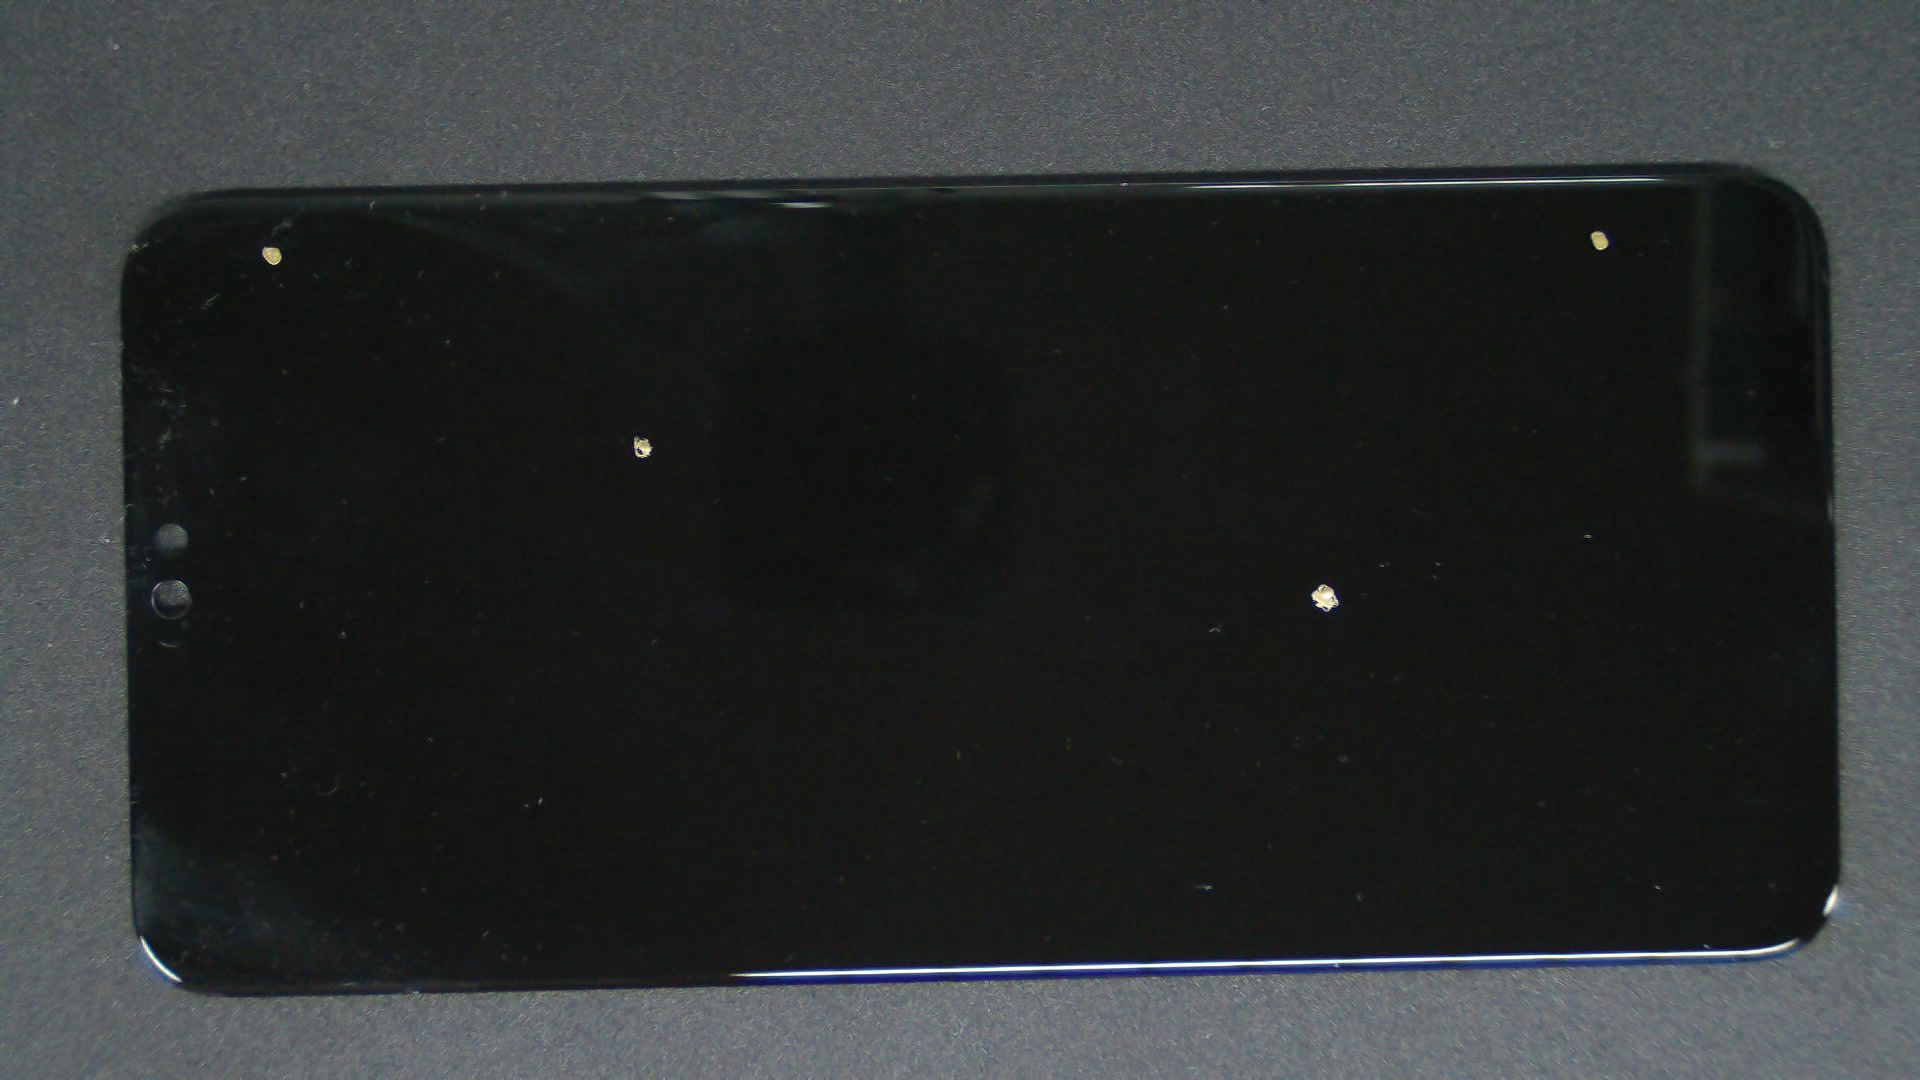defect: (1309, 583, 1340, 613), (632, 435, 653, 458), (261, 245, 282, 266), (1589, 229, 1610, 251)
